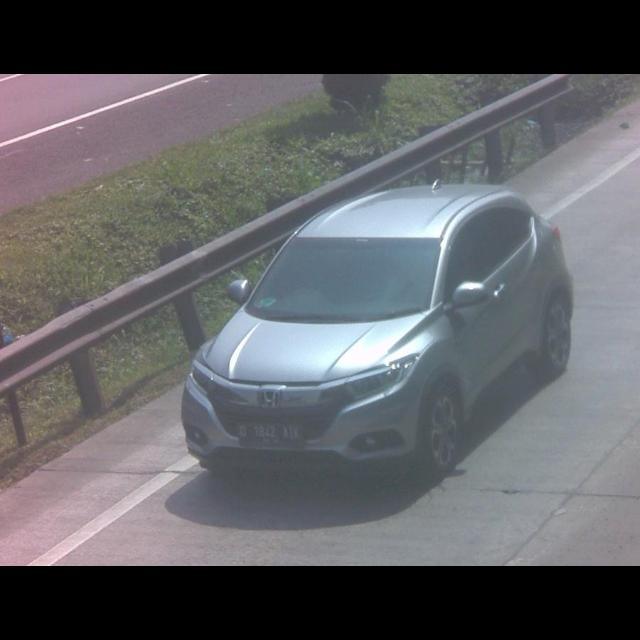plate: (233, 418, 304, 448)
